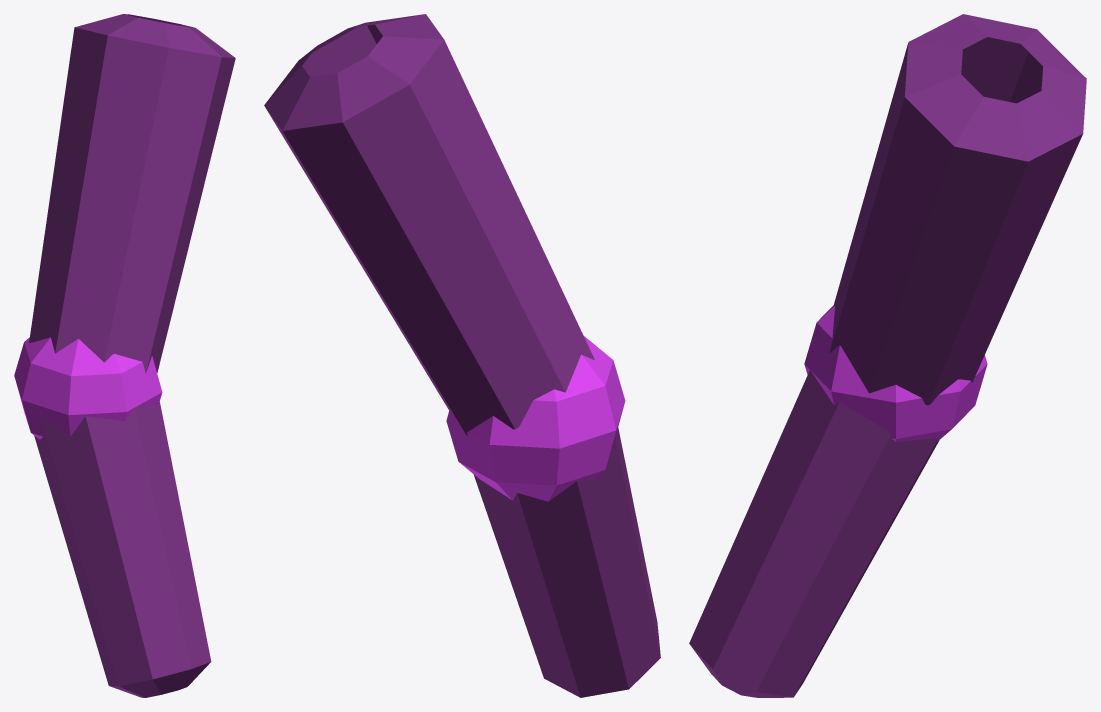
Rendered from imp_shaman_arm_L.obj.
3 views of the same model, side by side, from view 1: azimuth 30°, elevation 25°; view 2: azimuth 150°, elevation 25°; view 3: azimuth 270°, elevation 25° (orthographic). The views are drawn at different scales.
Visible parts, largest first — view 1: arm_upper_L, arm_lower_L, arm_joint_L; view 2: arm_upper_L, arm_lower_L, arm_joint_L; view 3: arm_upper_L, arm_lower_L, arm_joint_L.
Part boxes in pixels (left/top/right/bottom): arm_upper_L: left=29, top=14, right=235, bottom=373; arm_lower_L: left=34, top=402, right=211, bottom=697; arm_joint_L: left=14, top=337, right=162, bottom=439; arm_upper_L: left=264, top=14, right=594, bottom=435; arm_lower_L: left=473, top=427, right=660, bottom=697; arm_joint_L: left=446, top=335, right=625, bottom=501; arm_upper_L: left=829, top=14, right=1086, bottom=405; arm_lower_L: left=689, top=370, right=939, bottom=697; arm_joint_L: left=804, top=305, right=987, bottom=441.
Size of the model in its own units: 0.2245 by 0.529 by 0.2716.
